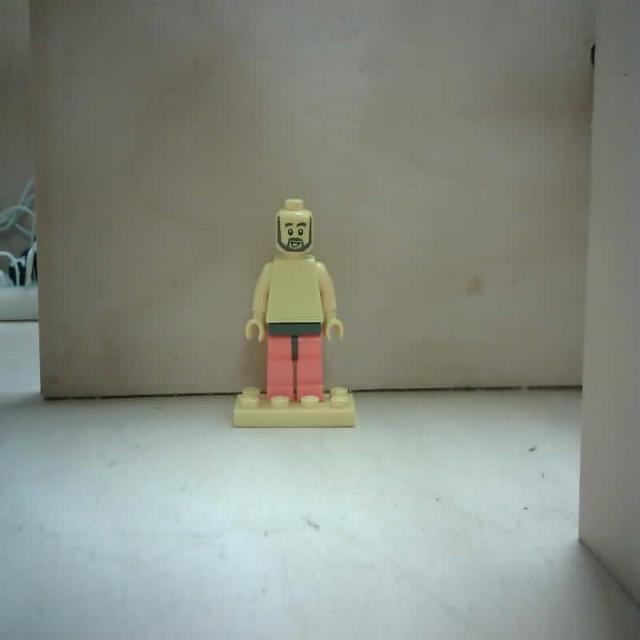Lego-People: (234, 197, 361, 427)
